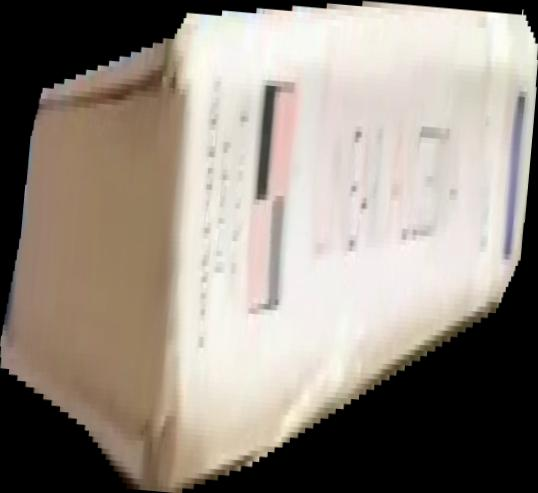flat: (1, 1, 538, 493)
